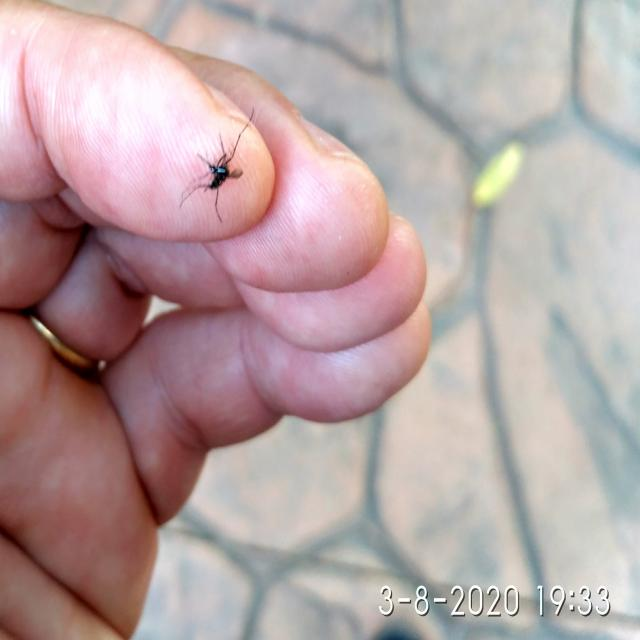albopictus: (175, 102, 262, 225)
